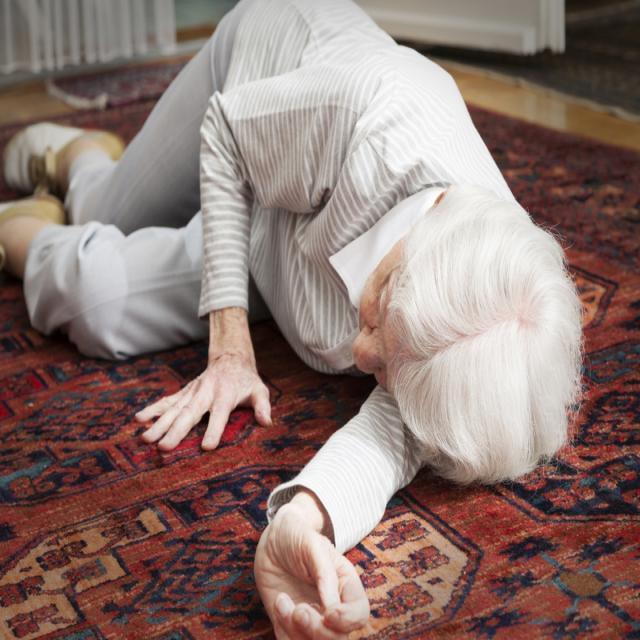fall: (2, 0, 584, 640)
